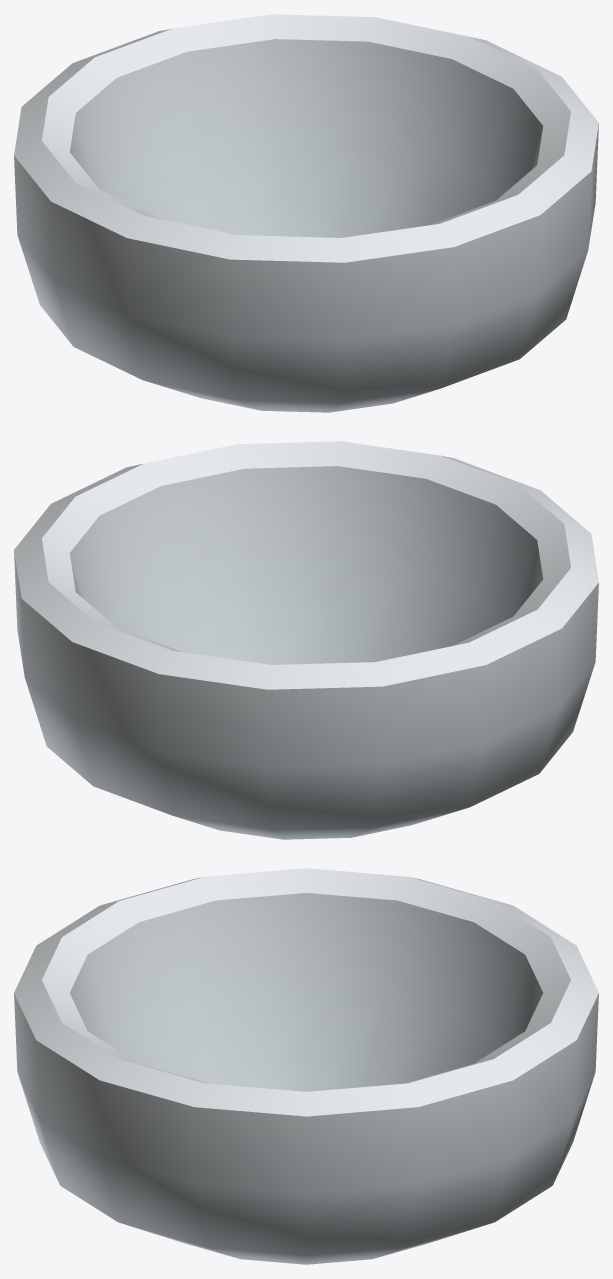
File: kay-bowl_small.glb
The picture shows the model from 3 angles, top to bottom: view 1: azimuth 30°, elevation 25°; view 2: azimuth 150°, elevation 25°; view 3: azimuth 270°, elevation 25°; orthographic projection.
Parts seen in each view (by area): view 1: bowl_small; view 2: bowl_small; view 3: bowl_small.
Part boxes in pixels (box(x1,y1,x2,y2)): bowl_small: box(14, 14, 598, 412); bowl_small: box(14, 441, 598, 839); bowl_small: box(14, 868, 598, 1264).
Bounding box in the file's own units: 0.22 × 0.088 × 0.22.
1 material, 1 textured.
